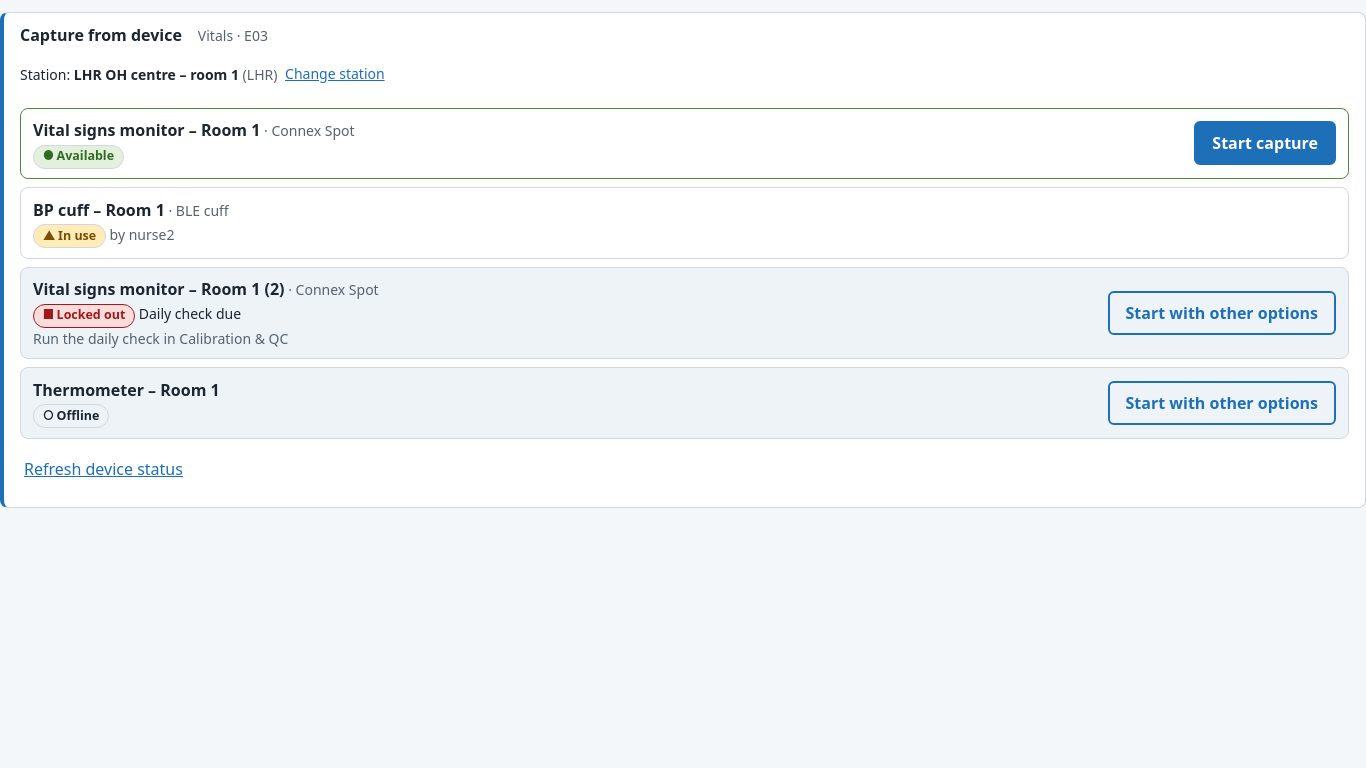
Capture from device – session state transitions › re-test returns to LISTENING; reject needs a reason
Click the button "Start capture". click: (1265, 143)
box: 1194,121 -> 1336,165
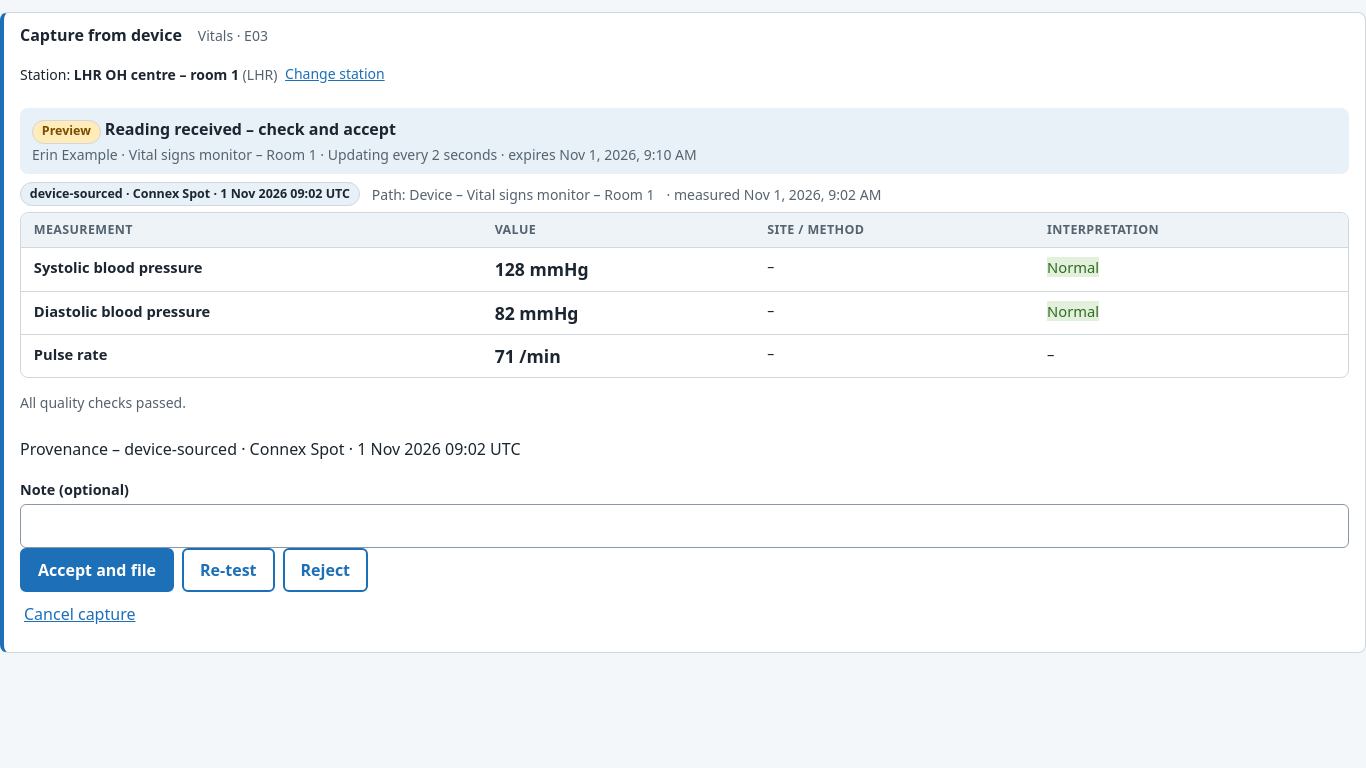
Click the button "Re-test". click: (228, 570)
box: 182,548 -> 275,592
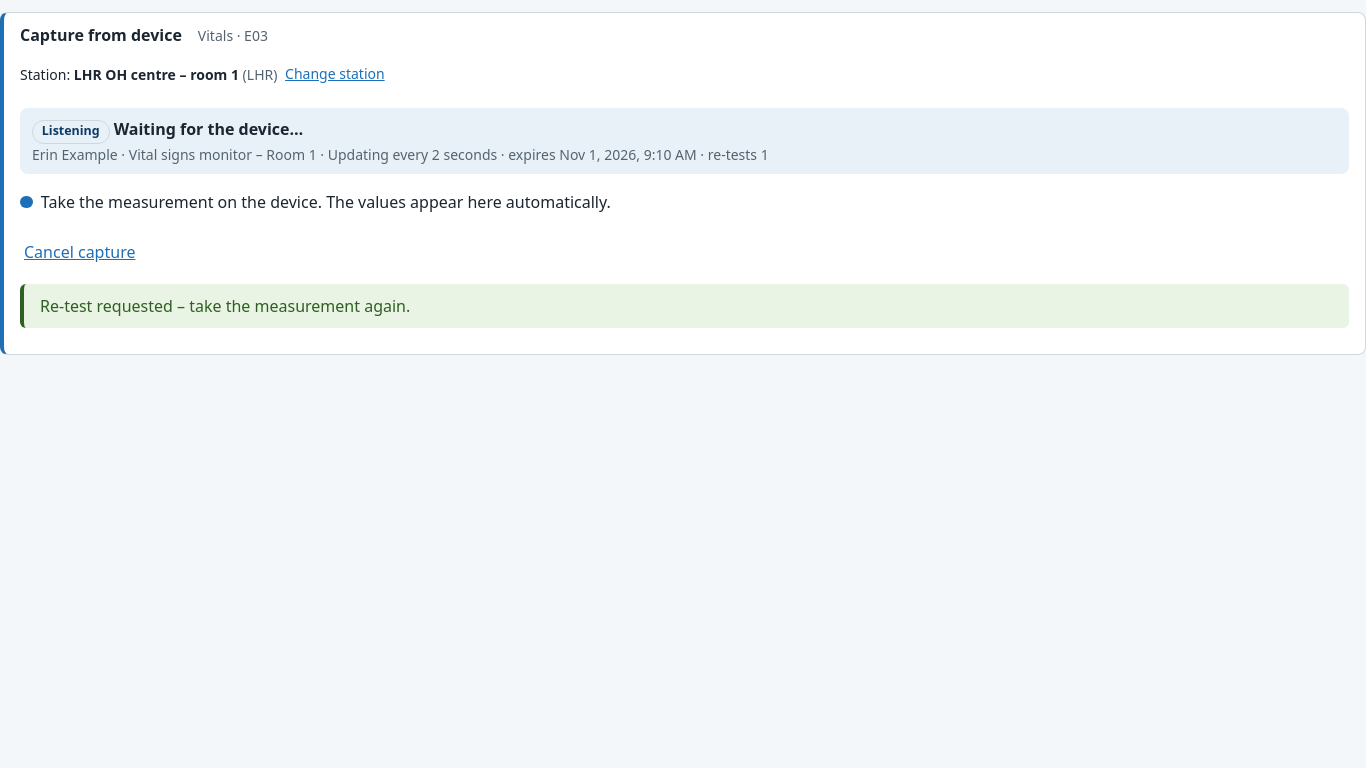
Now the text "Waiting for the device…" is shown, box 114,118 -> 303,140
Now the text "re-tests 1" is shown, box 32,144 -> 769,164
